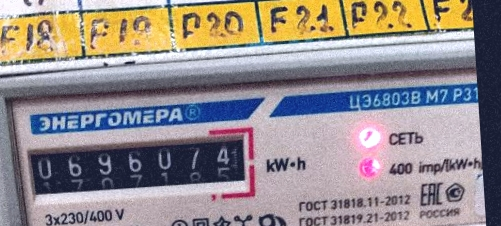0: (33, 154, 54, 179), (155, 144, 172, 170)
4: (213, 141, 230, 164)
5: (215, 165, 232, 181)
6: (126, 146, 145, 173), (65, 152, 84, 177)
7: (185, 143, 203, 169)
9: (95, 149, 113, 176)
screen: (16, 122, 260, 206)
